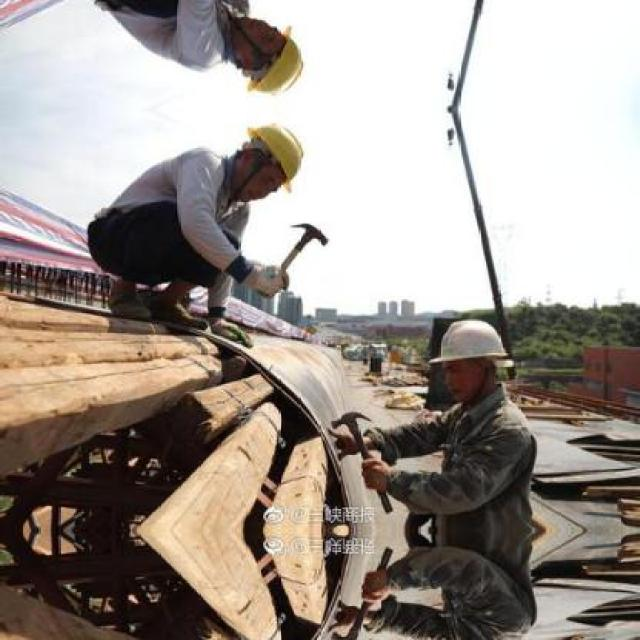helmet: (432, 318, 513, 402), (224, 120, 304, 205), (224, 13, 304, 98)
